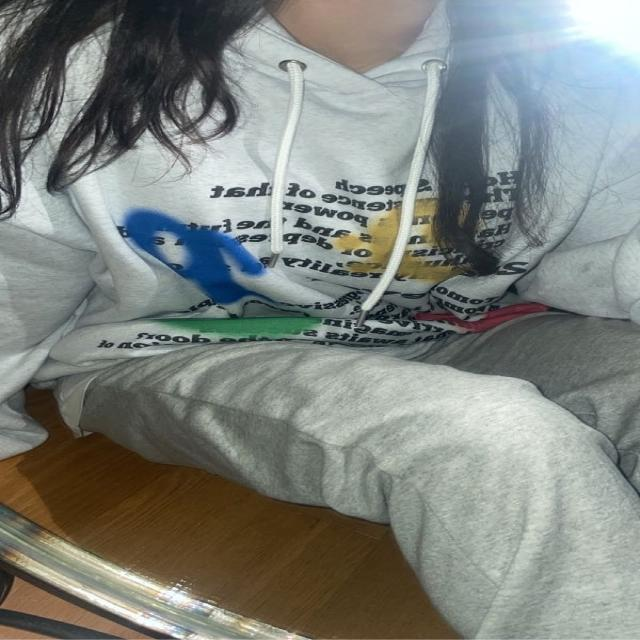hoodies: (0, 0, 640, 455)
trainingpants: (71, 307, 640, 640)
